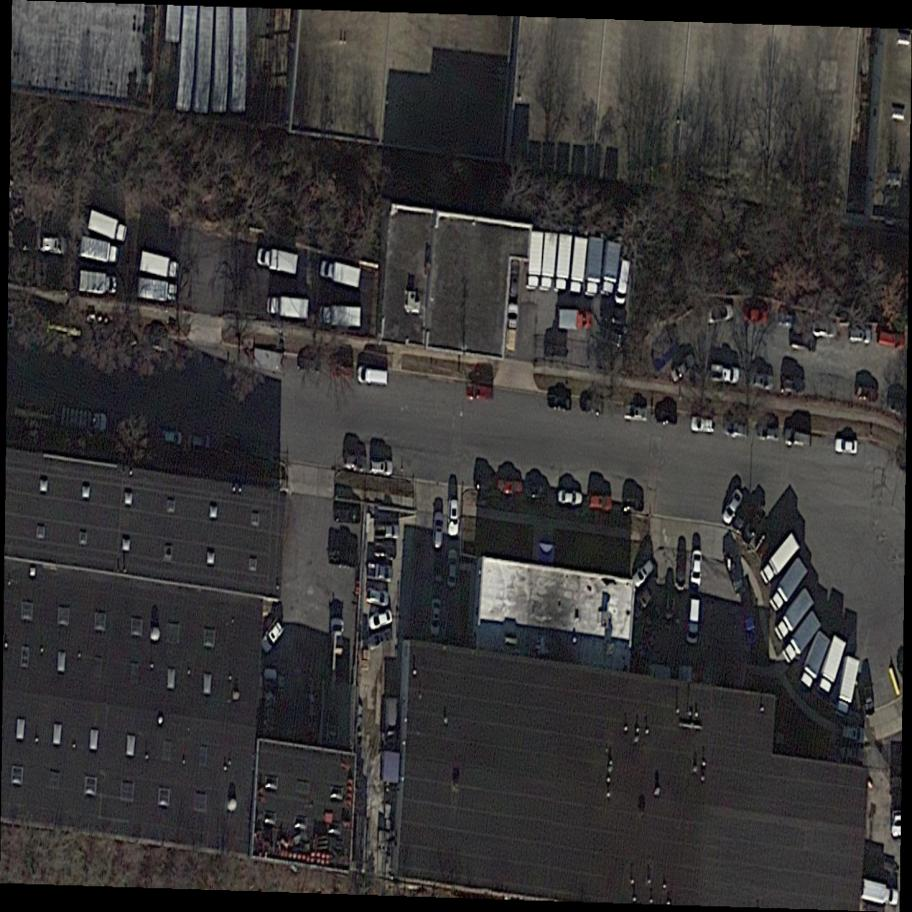large-vehicle: (766, 559, 811, 618), (780, 611, 825, 666), (757, 535, 803, 588), (773, 591, 817, 643), (798, 632, 832, 690), (816, 635, 848, 694), (832, 656, 860, 719), (84, 209, 132, 245), (856, 878, 903, 910), (137, 250, 181, 281), (77, 236, 121, 266), (599, 241, 622, 298), (256, 246, 301, 275), (59, 408, 108, 434), (568, 237, 588, 296), (525, 231, 544, 292), (585, 237, 603, 297), (319, 261, 362, 286), (539, 233, 557, 292), (266, 296, 312, 319), (554, 234, 572, 290), (556, 308, 596, 333), (79, 271, 117, 296), (137, 280, 178, 302), (320, 307, 362, 326), (504, 301, 519, 353), (615, 260, 631, 305), (886, 665, 903, 700)
small-vehicle: (738, 504, 770, 549), (721, 549, 750, 596), (718, 483, 747, 529), (663, 350, 701, 385), (257, 616, 289, 656), (626, 556, 660, 591), (730, 493, 756, 536), (592, 323, 628, 351), (855, 672, 877, 717), (684, 597, 704, 646), (354, 363, 393, 388), (706, 363, 743, 389), (738, 302, 775, 328), (808, 316, 843, 342), (745, 370, 778, 397), (777, 372, 810, 399), (36, 233, 70, 259), (703, 301, 737, 327), (739, 602, 759, 646), (634, 578, 661, 610), (786, 329, 818, 355), (365, 607, 397, 632), (335, 451, 369, 474), (782, 427, 814, 451), (688, 413, 719, 436), (445, 495, 461, 537), (365, 563, 394, 586), (753, 422, 782, 445), (877, 329, 907, 351), (623, 403, 653, 425), (844, 326, 874, 347), (852, 383, 882, 404), (689, 549, 704, 590), (363, 586, 392, 607), (366, 457, 396, 477), (428, 596, 443, 636), (445, 549, 460, 589), (465, 380, 495, 400), (329, 618, 345, 655), (723, 419, 751, 440), (833, 436, 861, 457), (334, 504, 362, 524), (587, 492, 615, 512), (674, 548, 687, 591), (556, 489, 585, 508), (618, 497, 647, 516), (544, 393, 574, 411), (771, 310, 801, 328), (524, 481, 551, 501), (507, 261, 521, 299), (372, 543, 398, 563), (187, 434, 214, 453), (159, 428, 185, 447), (329, 363, 356, 381), (294, 356, 322, 373), (580, 398, 605, 417), (432, 510, 444, 549), (375, 523, 401, 541), (653, 409, 679, 426), (495, 478, 524, 493), (543, 343, 567, 360)
